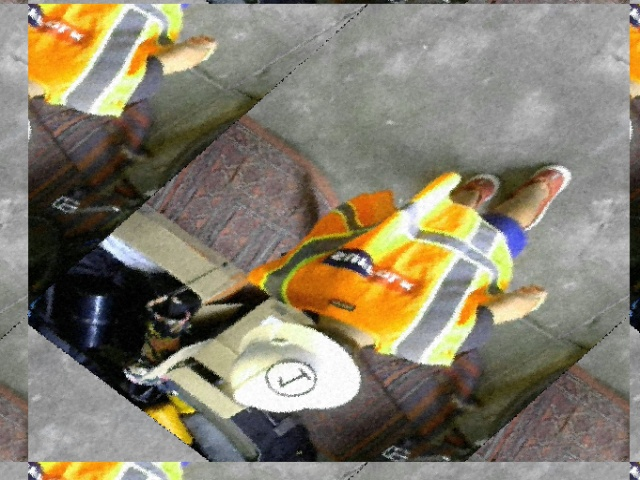one: (254, 351, 326, 402)
